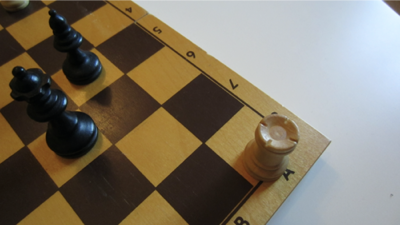black-bishop: (48, 9, 103, 86)
black-queen: (7, 66, 100, 159)
white-rook: (243, 114, 301, 183)
